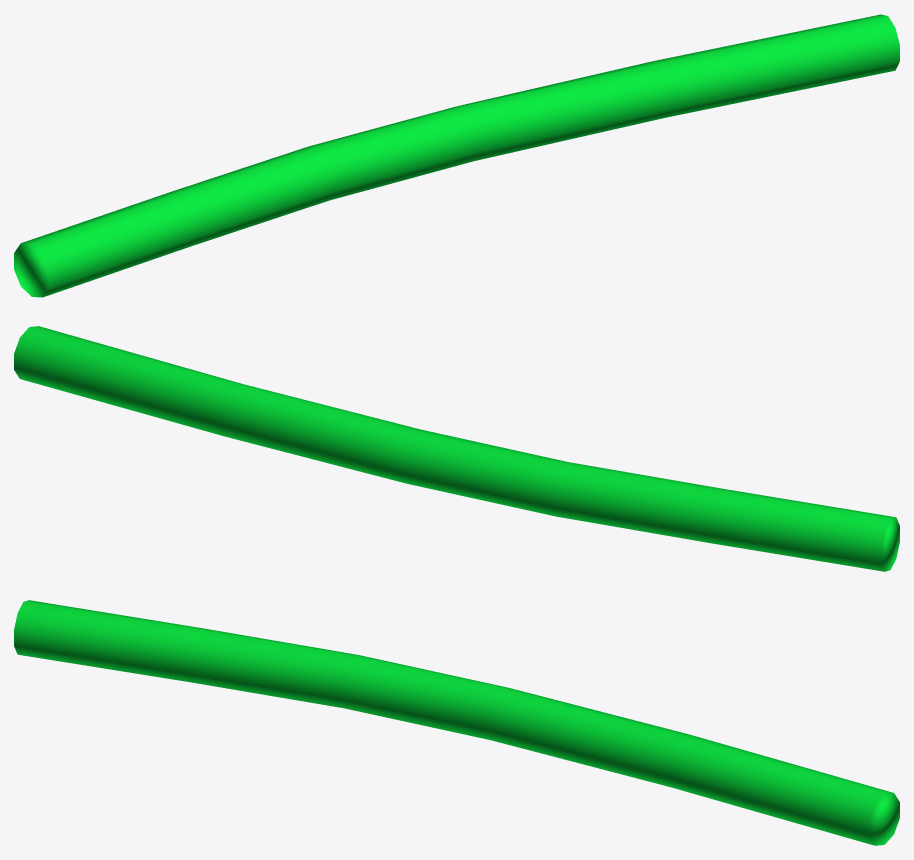
The model's file is Pipe_Turn_D_Ext.fbx.
3 views of the same model, one above another, from view 1: azimuth 30°, elevation 25°; view 2: azimuth 150°, elevation 25°; view 3: azimuth 330°, elevation 25° (orthographic). The views are drawn at different scales.
Parts seen in each view (by area): view 1: Pipe_Turn_D_Ext; view 2: Pipe_Turn_D_Ext; view 3: Pipe_Turn_D_Ext.
Part boxes in pixels (x1=…): Pipe_Turn_D_Ext: x1=14, y1=14, x2=899, y2=297; Pipe_Turn_D_Ext: x1=14, y1=326, x2=899, y2=571; Pipe_Turn_D_Ext: x1=14, y1=600, x2=899, y2=845.
Size of the model in its own units: 3.89 by 0.2269 by 0.4483.
